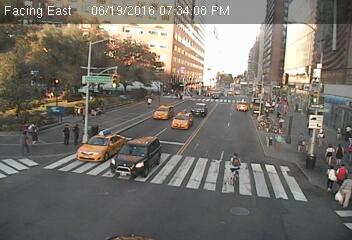neg: (220, 149, 249, 187), (252, 96, 263, 111), (177, 85, 187, 98), (162, 83, 168, 92)
pos: (324, 164, 344, 191), (335, 177, 351, 208), (15, 129, 34, 155), (334, 161, 351, 184), (295, 130, 312, 153), (56, 122, 73, 144), (69, 123, 85, 145), (27, 122, 43, 144), (323, 141, 339, 162), (335, 140, 349, 159), (315, 129, 327, 146), (341, 122, 351, 141), (144, 95, 156, 110)
